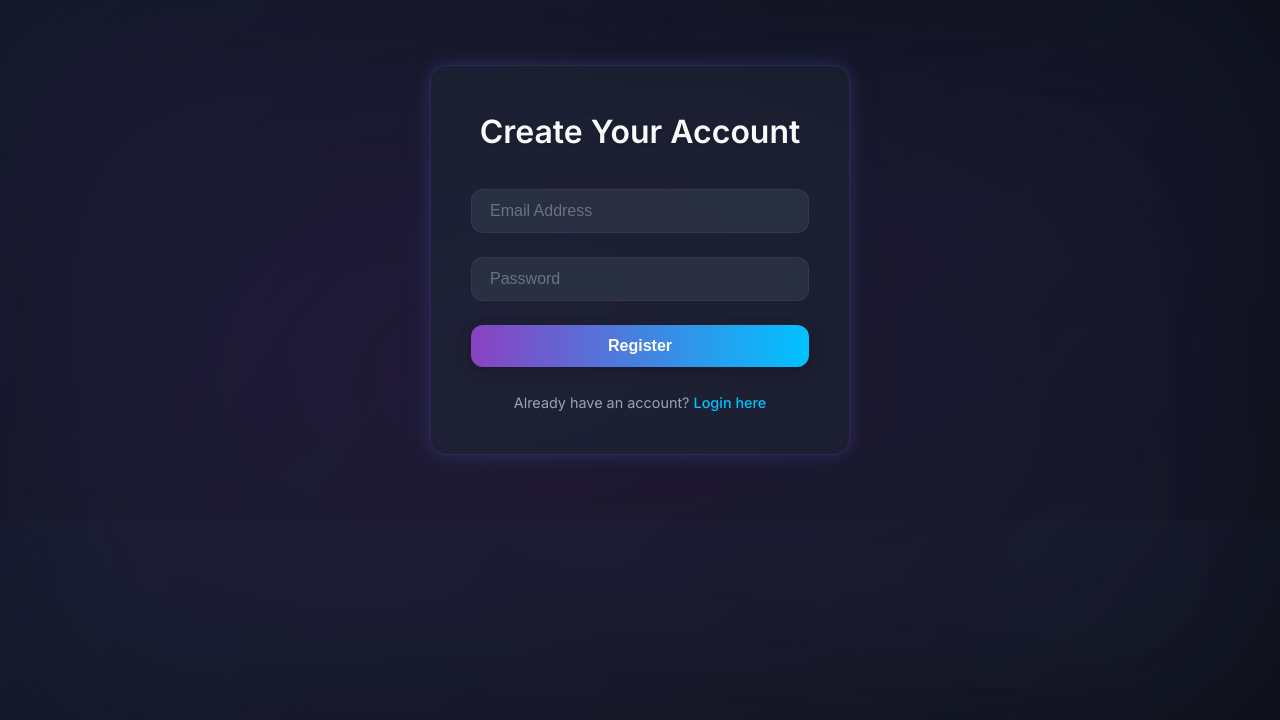
<RegisterPage /> › should display an error message on failed registration
This screenshot has width=1280, height=720.
Type "existing@example.com" into the field with placeholder "Email Address". click: point(640, 211)
box: [471,189,809,233]
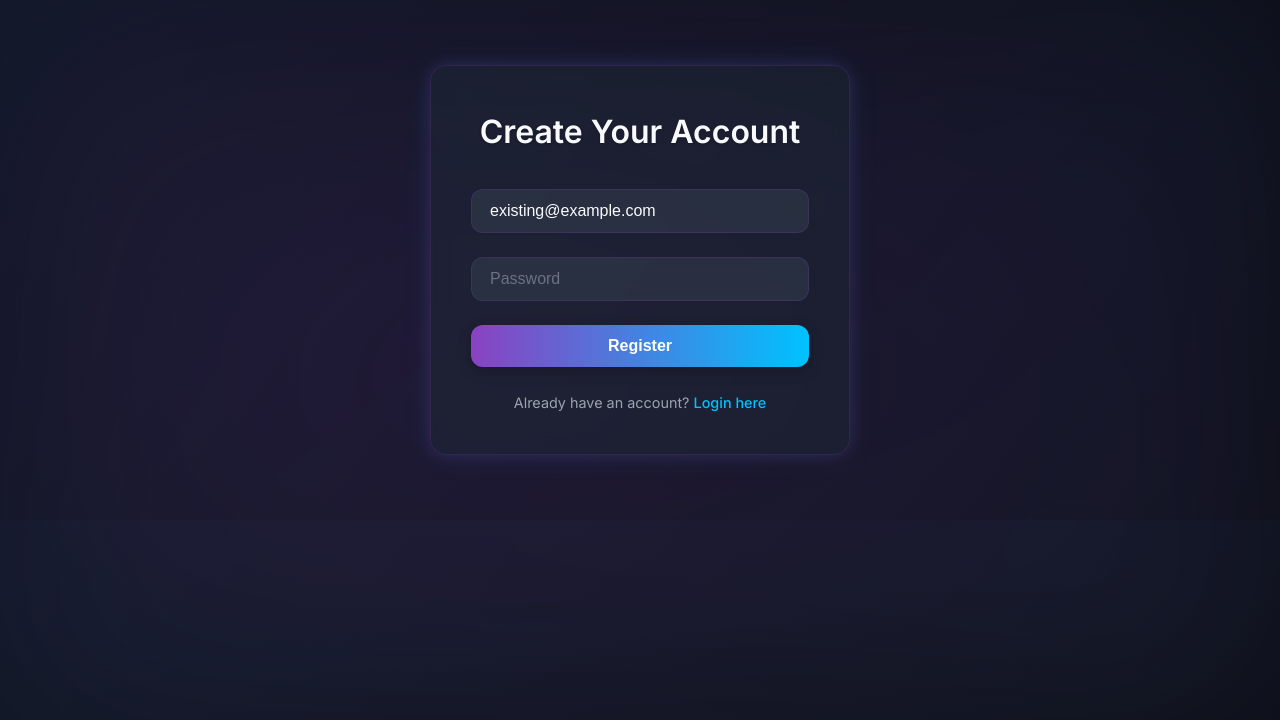
Type "password123" into the password field with placeholder "Password". click: point(640, 279)
box: [471,257,809,301]
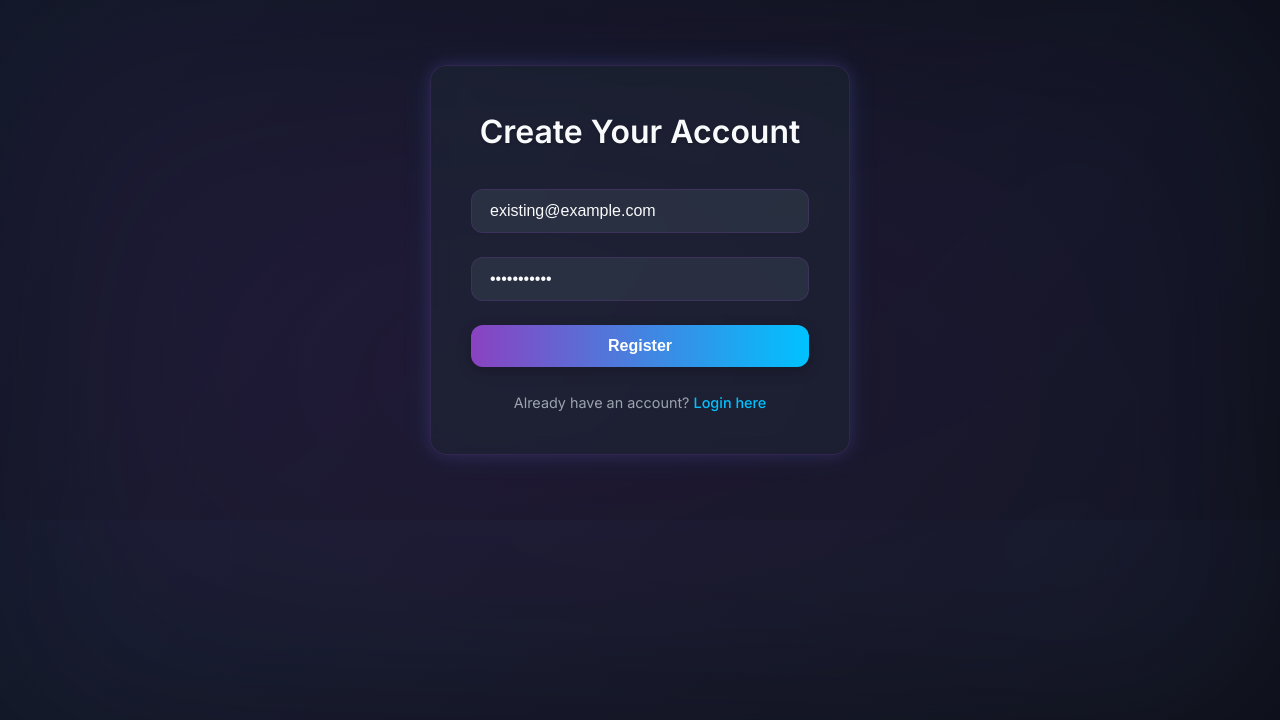
Click the button "Register". click: point(640, 346)
box: [471,325,809,367]
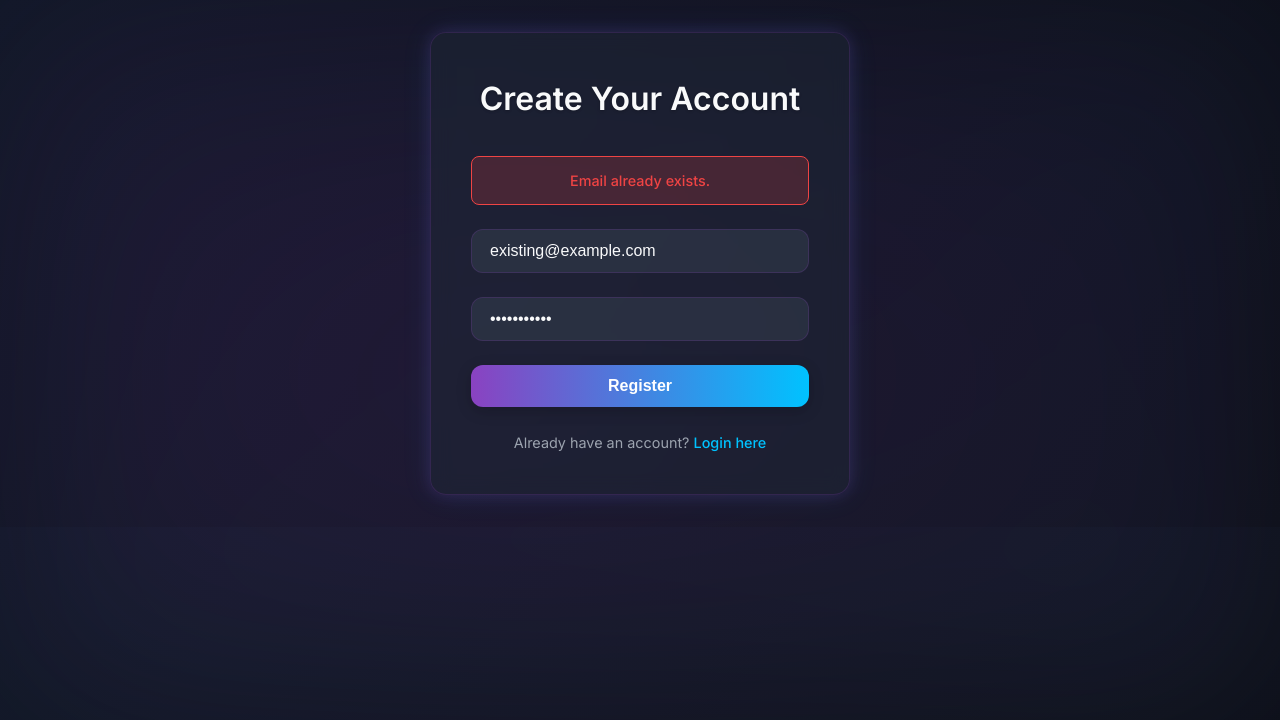
expect the text "Email already exists." is shown: met, box [471,156,809,205]
